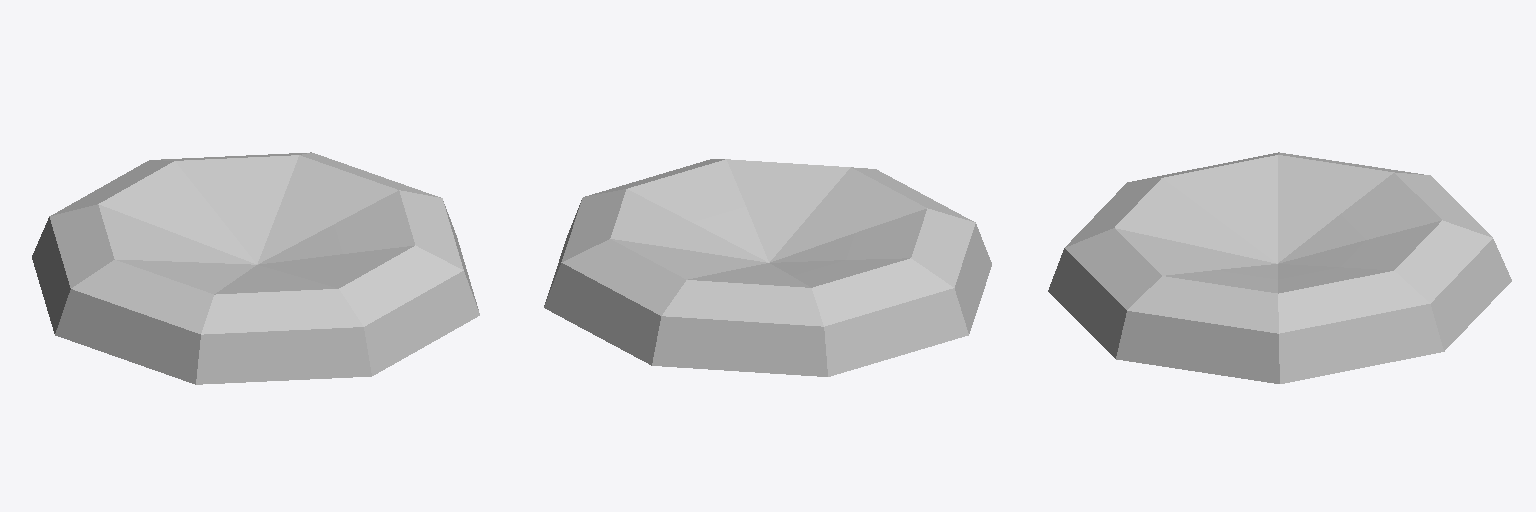
Rendered from Dirt_Open.obj.
3 renders of one model, left to right at view 1: azimuth 30°, elevation 25°; view 2: azimuth 150°, elevation 25°; view 3: azimuth 270°, elevation 25°, orthographic.
Parts seen in each view (by area): view 1: Dirt_Open; view 2: Dirt_Open; view 3: Dirt_Open.
Part boxes in pixels (x1,y1,x2,y2): Dirt_Open: (32,152,479,384); Dirt_Open: (544,159,991,376); Dirt_Open: (1048,152,1511,383).
Size of the model in its own units: 2 by 0.3383 by 2.